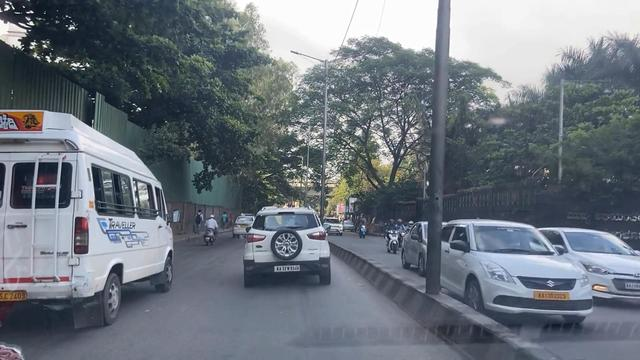HMV: (0, 111, 176, 326)
LMV: (239, 210, 334, 292)
